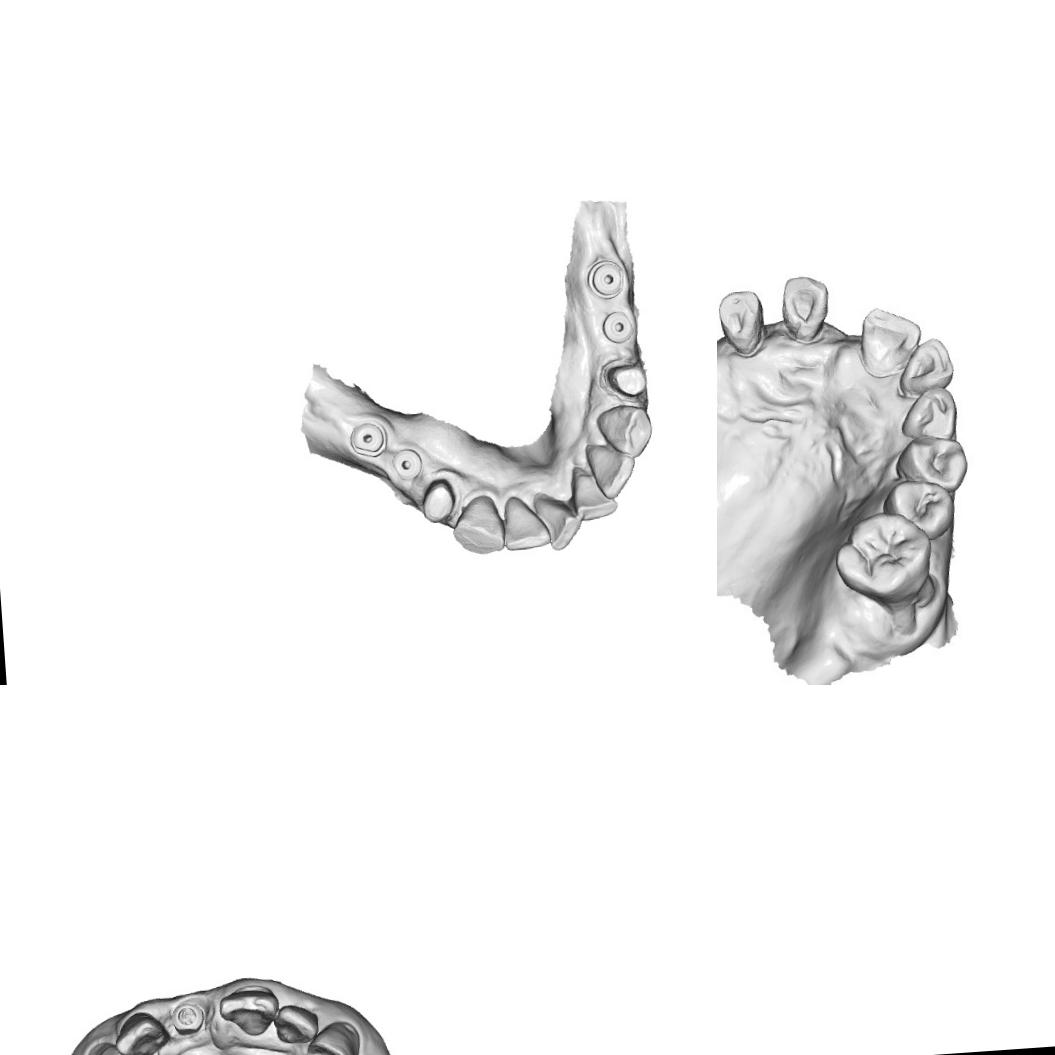canine: (717, 285, 778, 367), (592, 398, 656, 462), (449, 490, 507, 559), (903, 388, 958, 436), (300, 1019, 363, 1055), (85, 1041, 148, 1055)
crown: (598, 348, 652, 404), (412, 474, 460, 524)
implant: (381, 440, 427, 488), (583, 256, 630, 302), (343, 416, 392, 460), (595, 304, 639, 349), (168, 997, 207, 1038)
incisor: (860, 308, 930, 380), (214, 981, 282, 1041), (898, 338, 958, 396), (584, 439, 639, 502), (566, 462, 621, 524), (535, 484, 582, 554), (779, 274, 829, 336), (500, 496, 554, 553), (109, 1007, 167, 1055), (270, 999, 318, 1050)
molar: (834, 509, 928, 603)
premolar: (886, 473, 958, 538), (898, 433, 970, 494)
